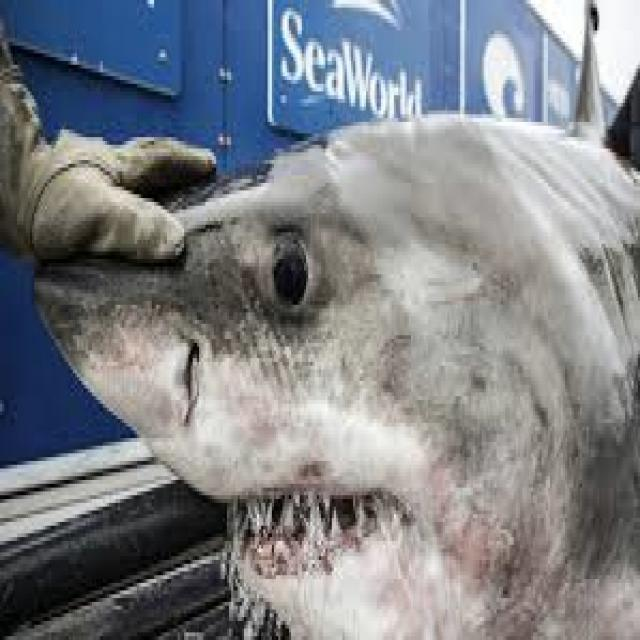shark: (36, 0, 638, 636)
